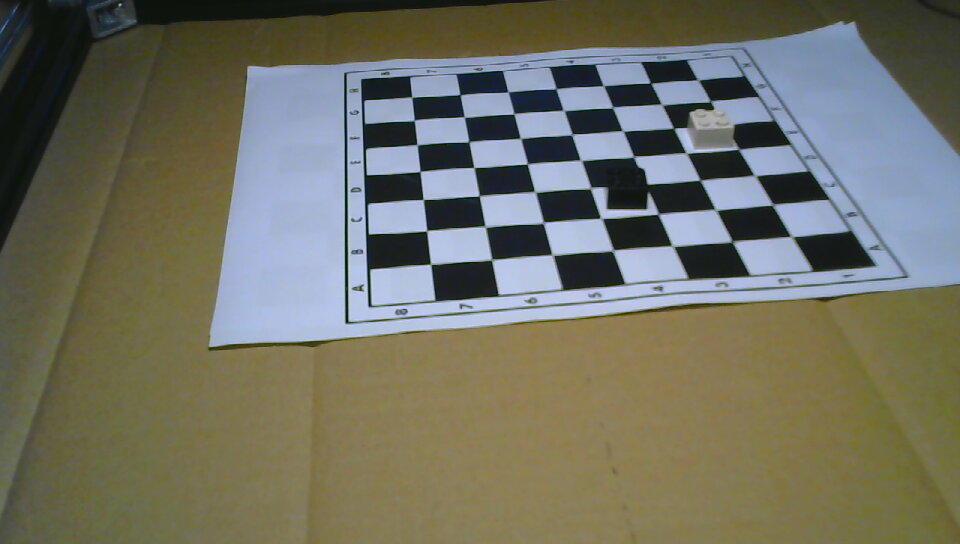bp: (606, 165, 647, 210)
wp: (687, 107, 734, 150)
